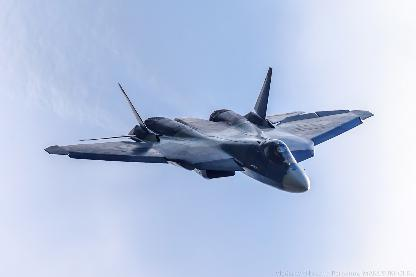SR71: (43, 67, 374, 192)
